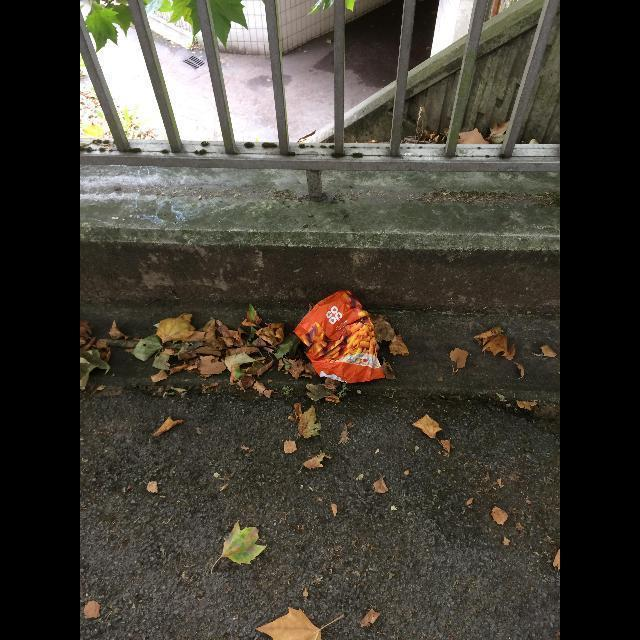Plastic: (293, 290, 385, 382)
